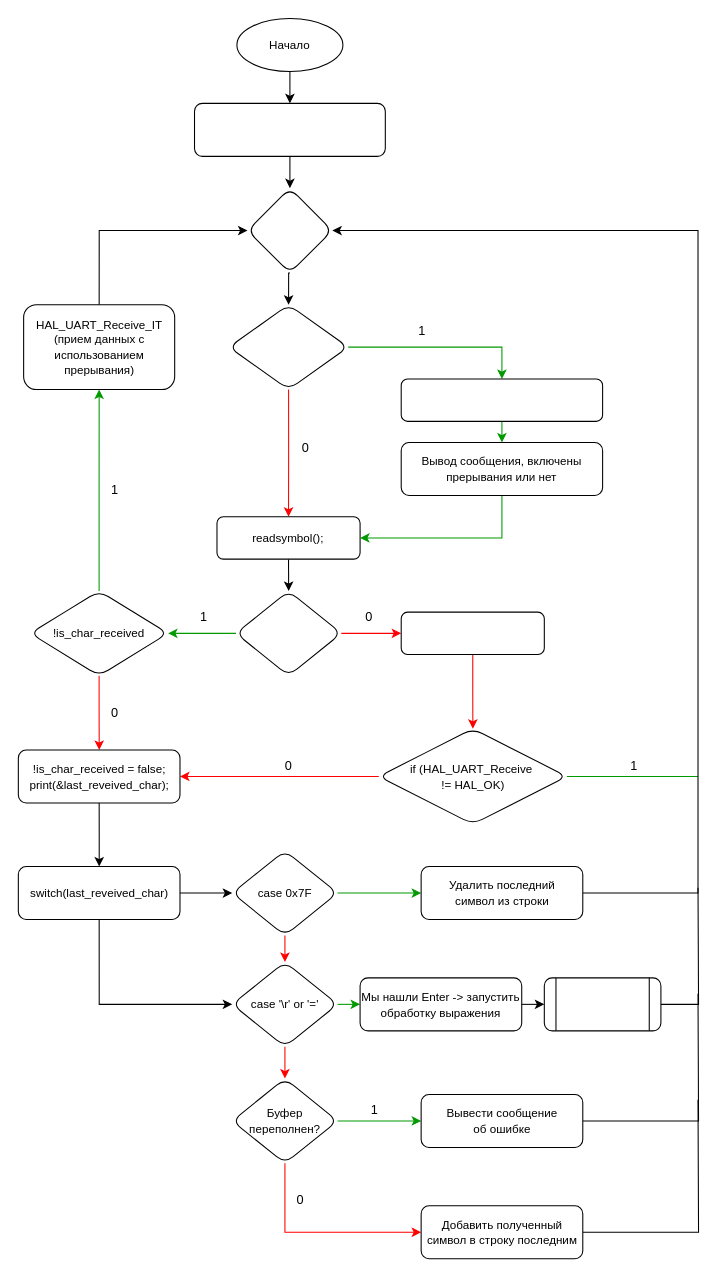
This 726x1277 diagram has some shape labels left out. Here are the shapes that lost their labels. From the top down, the centre of each, then its label:
At point (289, 129): "Инициализация библиотек".
At point (289, 230): "while (1)".
At point (288, 347): "Кнопка была нажата?".
At point (501, 399): "use_interrupt = !use_interrupt;".
At point (288, 633): "Режим прерываний?".
At point (472, 633): "HAL_UART_Receive".
At point (602, 1004): "Калькулятор".
